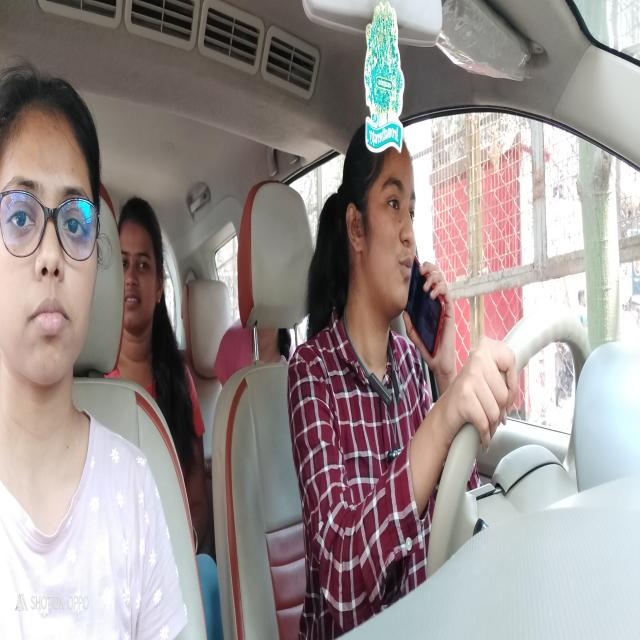mobile: (409, 247, 445, 363)
person: (4, 53, 104, 400), (339, 119, 415, 337), (117, 194, 168, 360)
